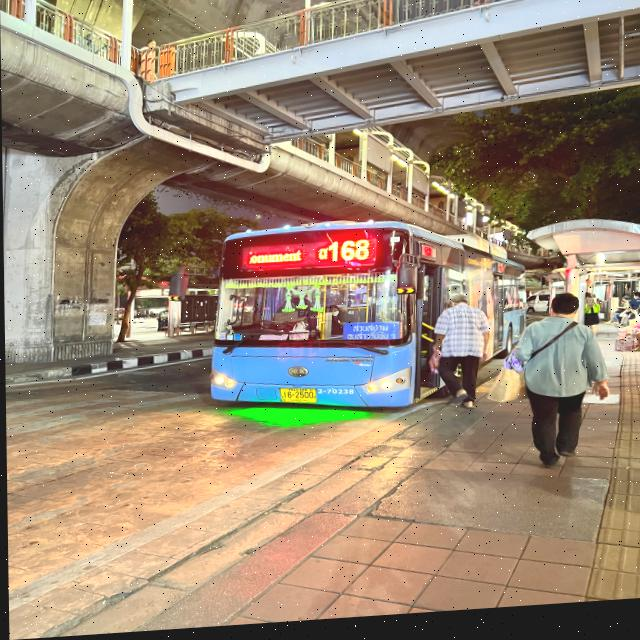BMTA-bus: (205, 218, 484, 429)
Bus-Line-Number: (325, 238, 373, 272)
Destination-Sign-Normal: (341, 325, 400, 346)
